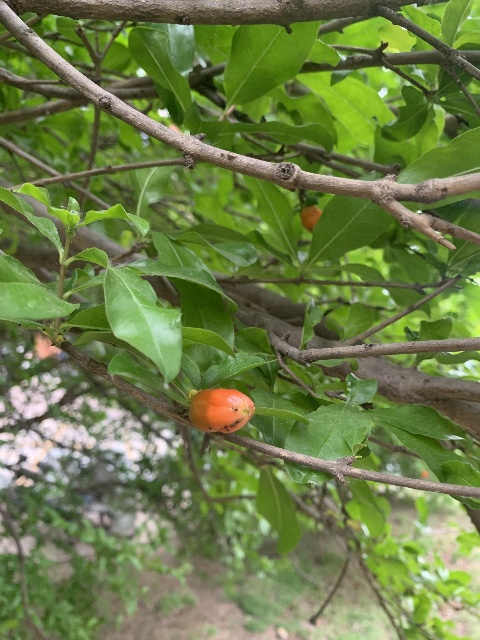bud: (189, 387, 254, 433), (300, 205, 322, 232)
